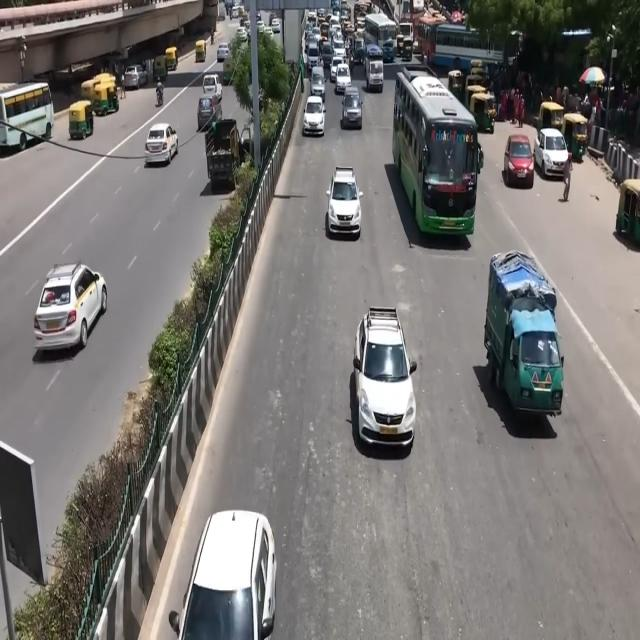auto: (68, 100, 94, 140), (222, 50, 238, 85), (153, 55, 169, 81), (164, 46, 178, 72), (195, 40, 207, 64)
bike-auto: (156, 78, 164, 105)
